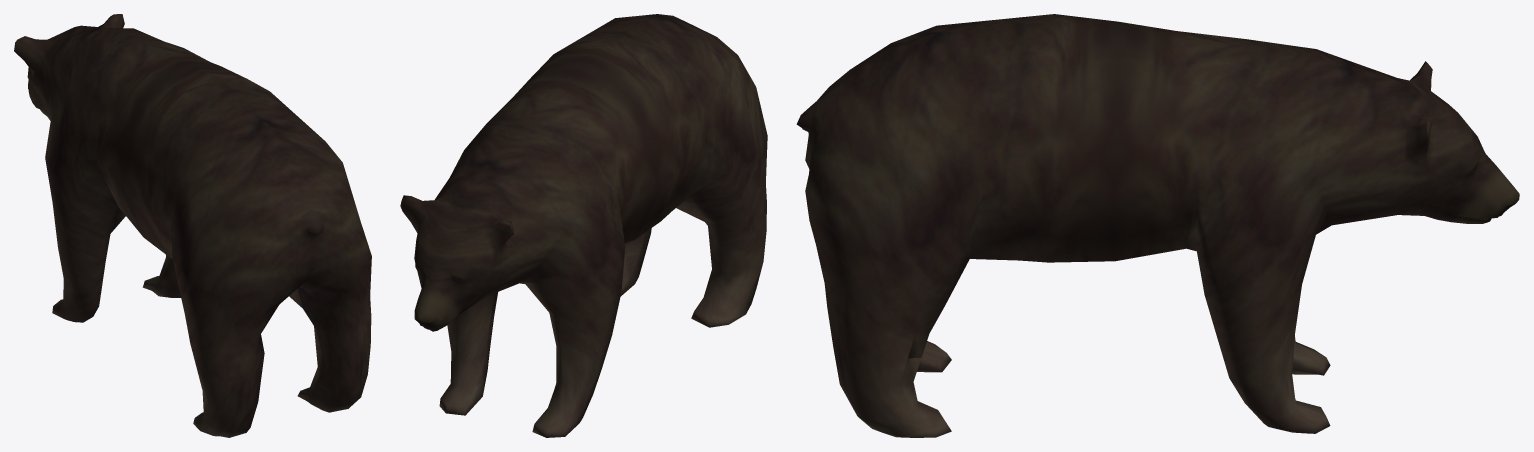
The model's file is bear.gltf.
3 views of the same model, side by side, from view 1: azimuth 30°, elevation 25°; view 2: azimuth 150°, elevation 25°; view 3: azimuth 270°, elevation 25° (orthographic). The views are drawn at different scales.
Visible parts, largest first — view 1: Cube; view 2: Cube; view 3: Cube.
Boxes of the visible parts, <box> form: Cube: <box>14,14,371,437</box>; Cube: <box>400,14,767,437</box>; Cube: <box>796,14,1519,437</box>.
Bounding box in the file's own units: 0.6894 × 1.14 × 1.98.
2 materials, 1 textured.
